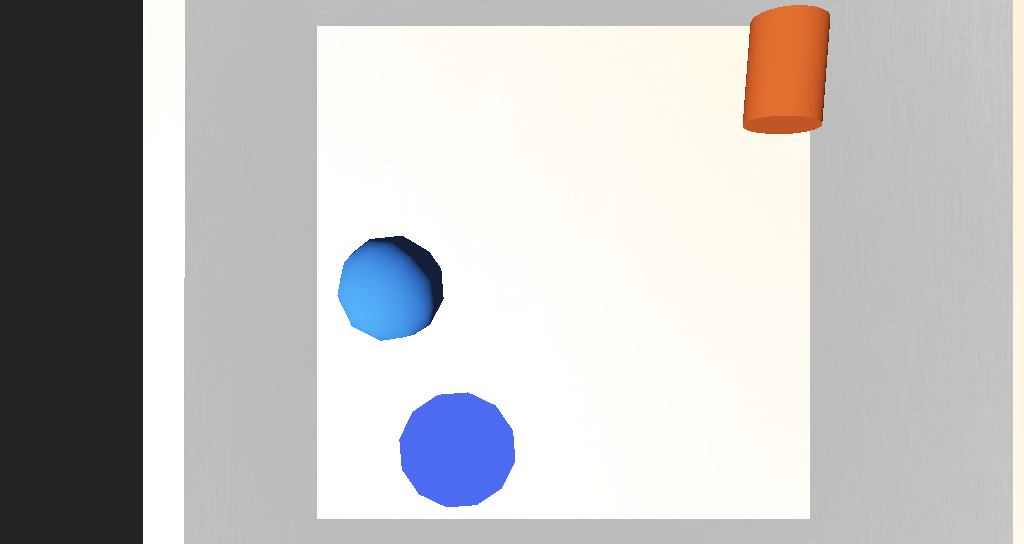cone: (610, 160, 670, 212)
cylinder: (401, 308, 488, 370)
sphere: (374, 255, 435, 298)
